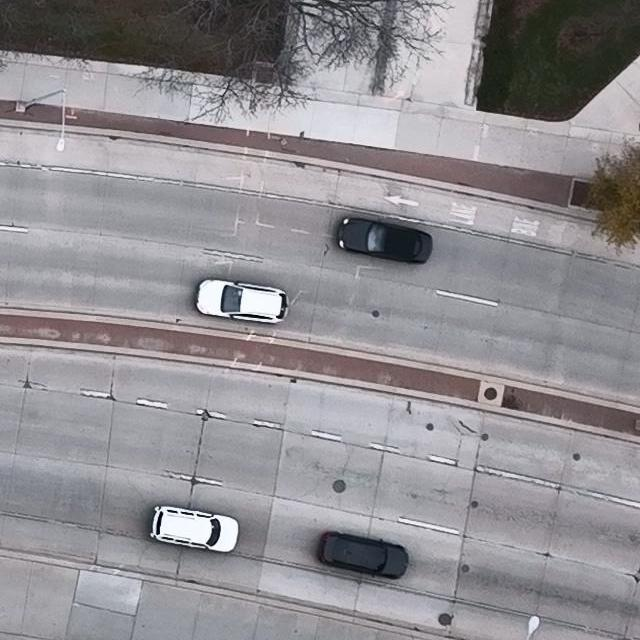car: (148, 504, 240, 553), (318, 530, 408, 580), (337, 216, 432, 263), (196, 277, 289, 324)
